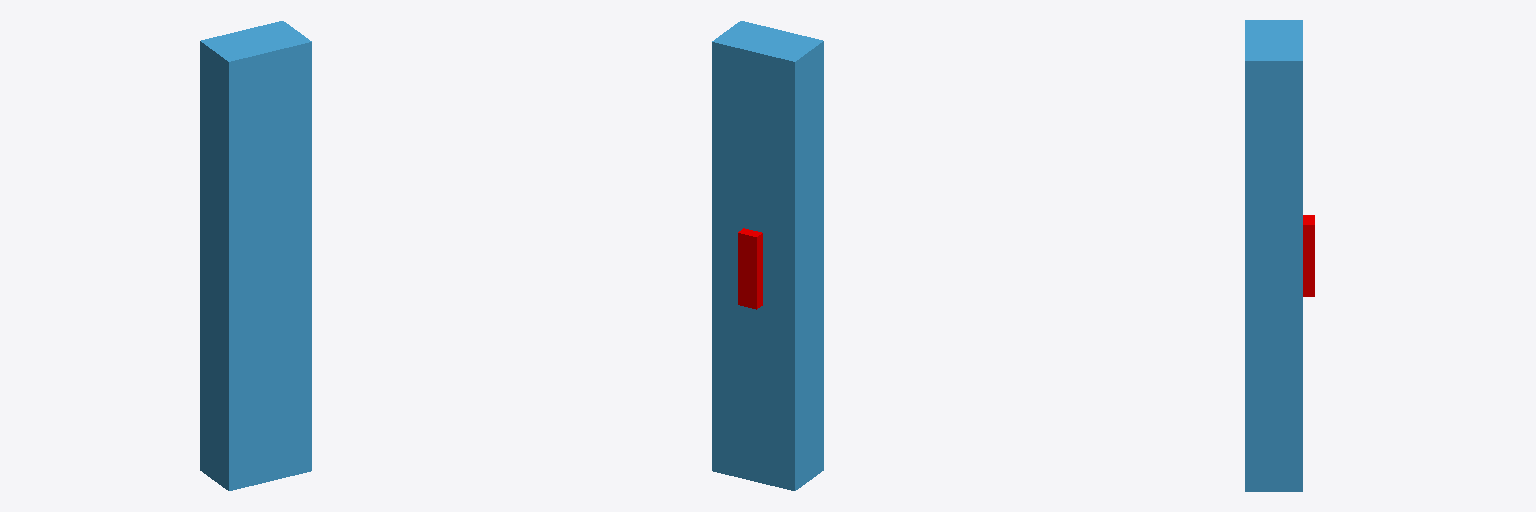
The robot description file, URDF, robot "knife":
<?xml version='1.0' encoding='utf-8'?>
<robot name="knife">
  <link name="link_1">
    <visual name="link_1">
      <origin xyz="0 0.011413 0" rpy="0 0 0" />
      <geometry>
        <box size="0.007199958909271079 0.004007493402601635 0.025825467379991713" /></geometry>
    <material name="red"><color rgba="1 0 0 1" /></material></visual>
    <collision>
      <origin xyz="0 0.011413 0" rpy="0 0 0" />
      <geometry>
        <box size="0.007199958909271079 0.004007493402601635 0.025825467379991713" /></geometry>
    </collision>
    </link>
  <joint name="joint_1" type="prismatic">
    <origin xyz="0 0 0" />
    <axis xyz="0 0 1" />
    <child link="link_1" />
    <parent link="link_0" />
    <limit lower="-0.048329" upper="0.001671" effort="100.0" velocity="1.0" />
  </joint>
  <link name="link_0">
    <visual name="link_0">
      <origin xyz="0 0 0" />
      <geometry>
        <box size="0.03112709531788488 0.01881767587053261 0.1535290964531665" /></geometry>
    </visual>
    <collision>
      <origin xyz="0 0 0" />
      <geometry>
        <box size="0.03112709531788488 0.01881767587053261 0.1535290964531665" /></geometry>
    </collision>
    </link>
</robot>

--- Render facts (derived) ---
3 views of the same robot in one strip: view 1: azimuth 30°, elevation 25°; view 2: azimuth 150°, elevation 25°; view 3: azimuth 270°, elevation 25° (orthographic).
Model knife with 2 links and 1 joints (1 prismatic), rooted at link_0, posed all joints at 0.
Links seen in each view (by area): view 1: link_0; view 2: link_0, link_1; view 3: link_0, link_1.
Boxes of the visible links, box(x1,y1,x2,y2) form: link_0: box(200, 21, 311, 490); link_0: box(712, 21, 823, 490); link_1: box(738, 228, 762, 309); link_0: box(1245, 20, 1302, 491); link_1: box(1303, 215, 1314, 296).
Size in the robot's own frame: 0.0311 by 0.0228 by 0.1535 metres.
Geometry: primitives only (box / cylinder / sphere), no mesh files.
